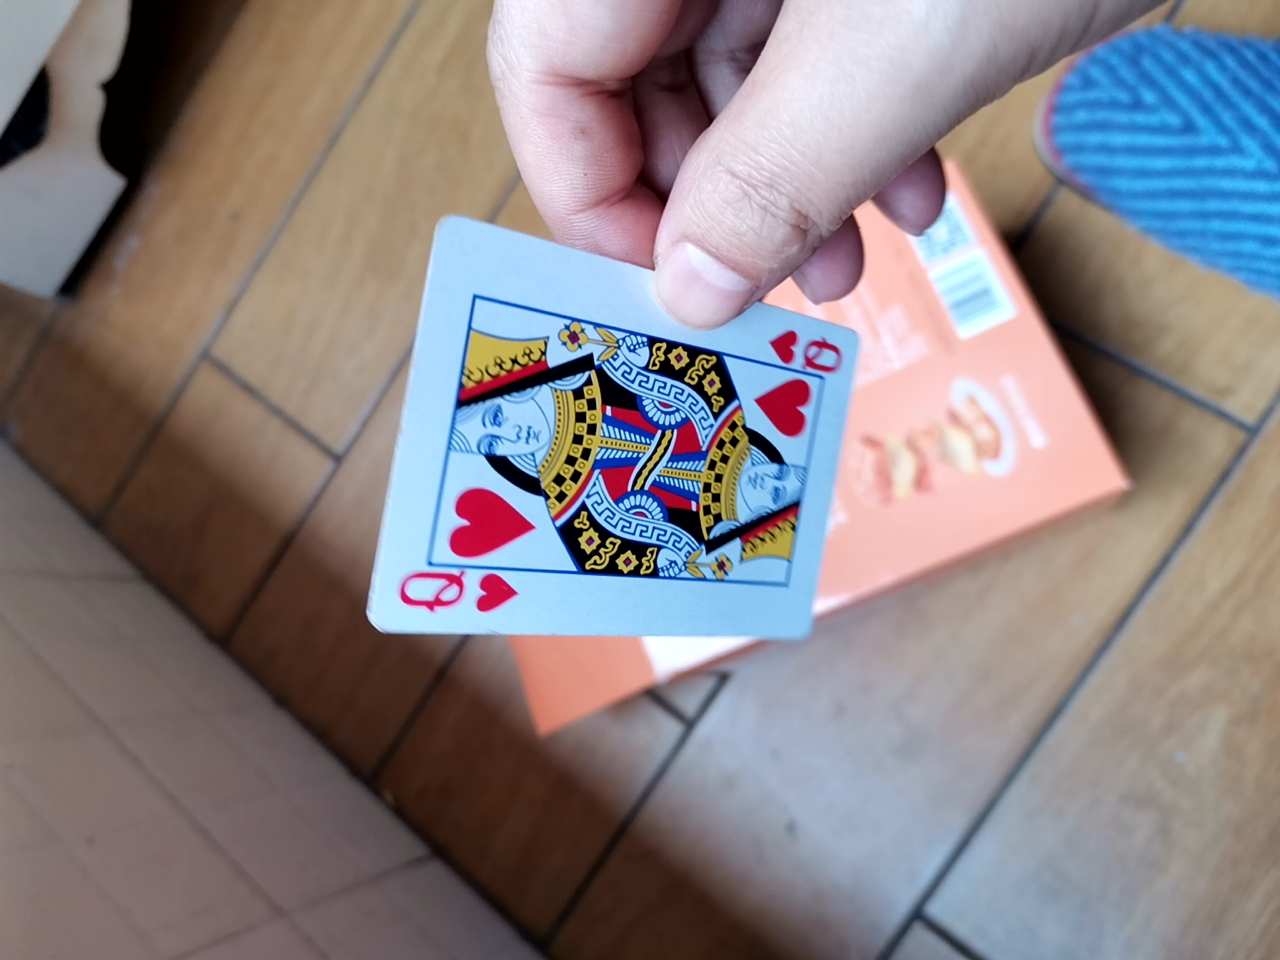hx q: (364, 214, 880, 696)
